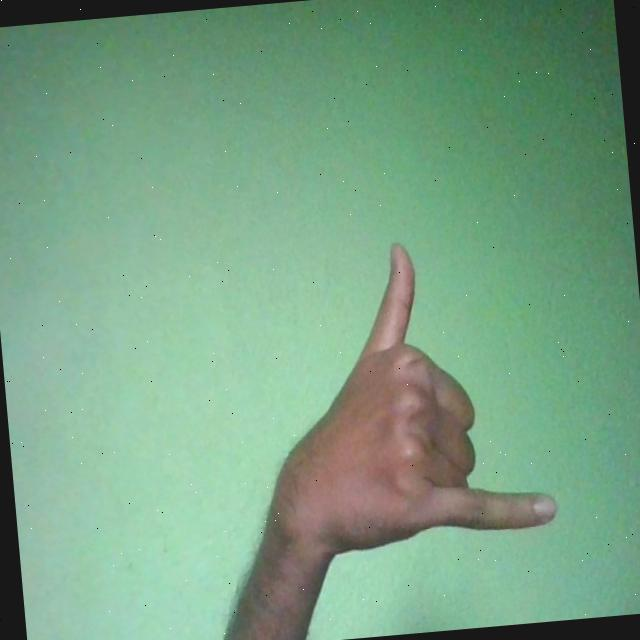Call Me: (241, 228, 560, 564)
